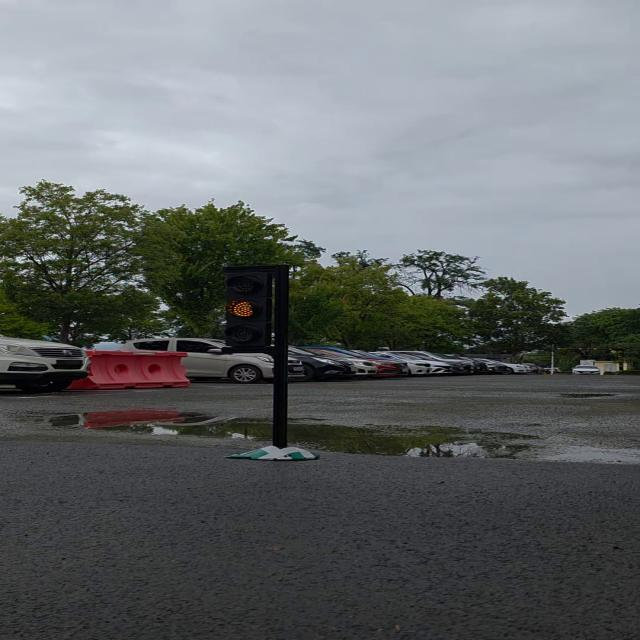yellow: (216, 266, 288, 359)
